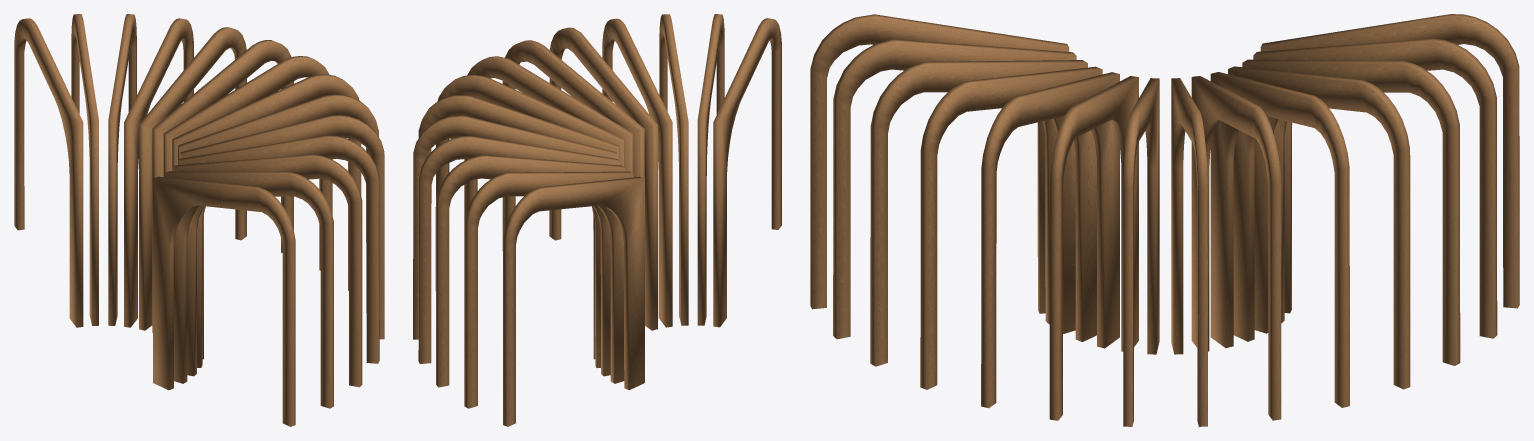
File: mesh_com_centrebeams.glb
3 renders of one model, left to right at view 1: azimuth 30°, elevation 25°; view 2: azimuth 150°, elevation 25°; view 3: azimuth 270°, elevation 25°, orthographic. The views are drawn at different scales.
Visible parts, largest first — view 1: mesh_com_centrebeams; view 2: mesh_com_centrebeams; view 3: mesh_com_centrebeams.
Part boxes in pixels (box(x1,y1,x2,y2)): mesh_com_centrebeams: box(14, 14, 384, 426); mesh_com_centrebeams: box(413, 14, 781, 426); mesh_com_centrebeams: box(810, 14, 1519, 426).
Size of the model in its own units: 8.34 by 8.31 by 17.18.
1 material, 1 textured.
